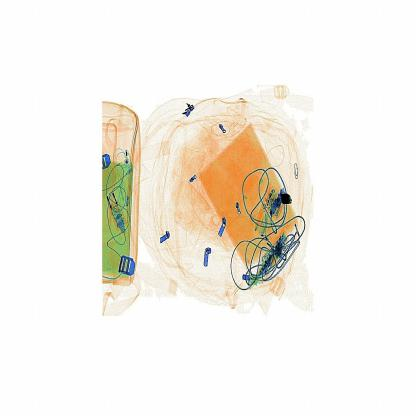scissors: (277, 182, 298, 222)
